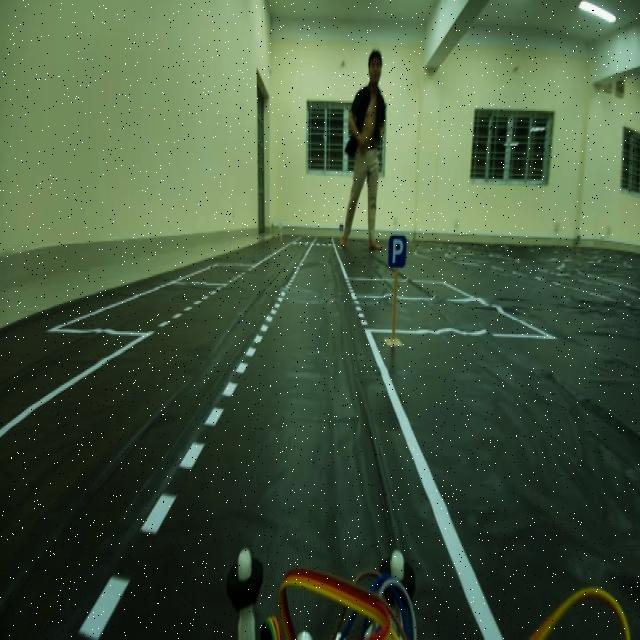parking: (386, 228, 414, 274)
